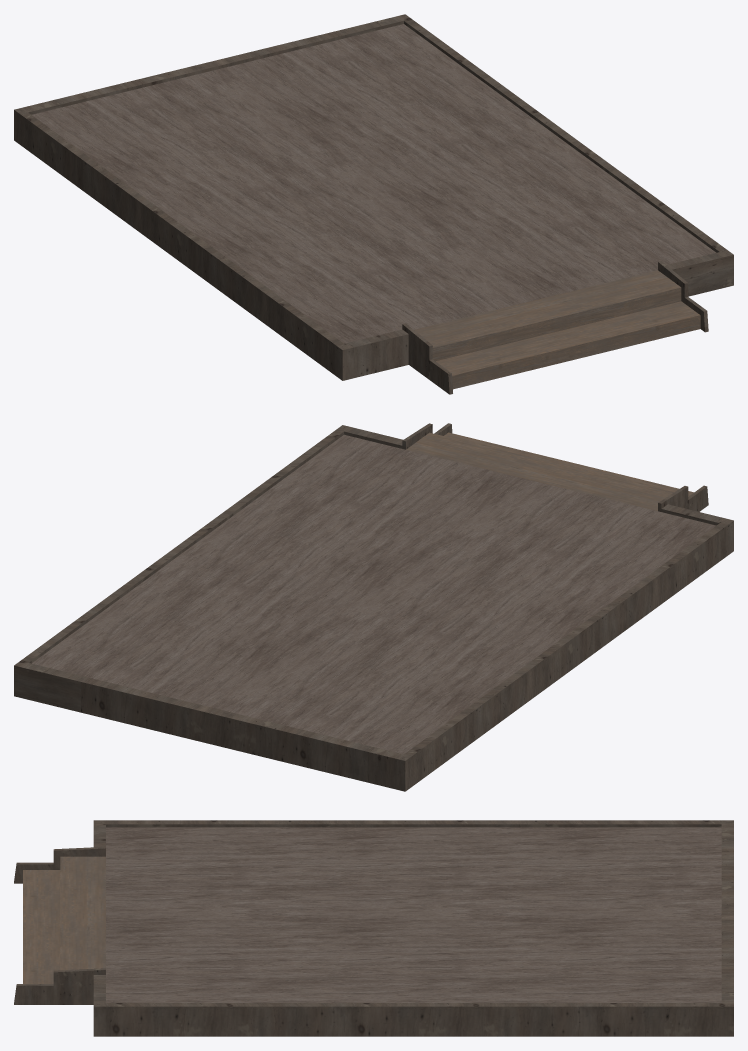
File: cabin_floor.fbx
3 renders of one model, top to bottom at view 1: azimuth 30°, elevation 25°; view 2: azimuth 150°, elevation 25°; view 3: azimuth 270°, elevation 25°, orthographic. The views are drawn at different scales.
Parts seen in each view (by area): view 1: Plane, Plane.008; view 2: Plane, Plane.008; view 3: Plane, Plane.008.
Boxes of the visible parts, x1,y1,x2,y2 form: Plane: (14,14,733,380); Plane.008: (402,261,708,394); Plane: (14,425,733,791); Plane.008: (402,423,708,511); Plane: (93,820,733,1036); Plane.008: (14,846,105,1004).
Bounding box in the file's own units: 535 × 47.04 × 874.
